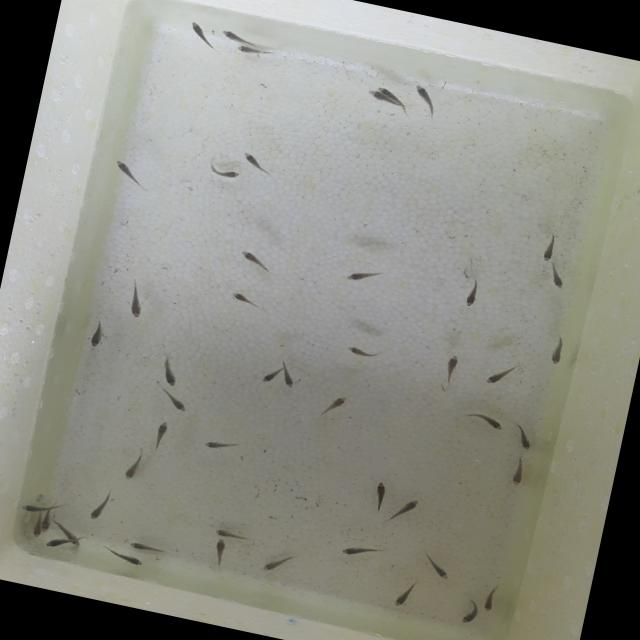fingerling: (108, 156, 154, 193), (382, 491, 422, 528), (258, 546, 296, 579), (100, 544, 148, 570), (417, 549, 454, 582), (235, 149, 278, 177), (235, 247, 278, 274), (152, 353, 184, 389), (336, 540, 384, 564), (222, 287, 270, 311), (318, 389, 350, 424), (122, 280, 150, 320), (124, 536, 174, 558), (461, 408, 506, 432), (154, 385, 191, 414), (391, 576, 421, 610), (502, 454, 530, 490), (478, 580, 506, 616), (508, 420, 538, 451), (182, 19, 215, 47), (368, 478, 392, 516), (120, 448, 146, 483), (86, 489, 112, 524), (454, 596, 482, 628), (202, 162, 244, 183), (360, 86, 400, 108), (85, 316, 110, 350), (544, 334, 569, 368), (210, 526, 256, 544), (479, 366, 512, 391), (150, 417, 172, 454), (408, 82, 437, 110), (344, 266, 380, 288), (56, 522, 86, 547), (209, 536, 231, 570), (232, 42, 272, 60), (258, 360, 284, 387), (544, 262, 569, 290), (538, 232, 559, 264), (461, 278, 482, 310), (201, 436, 237, 454), (44, 534, 76, 554), (278, 365, 300, 391), (218, 27, 251, 44), (342, 347, 374, 364), (18, 497, 44, 516), (442, 357, 458, 384), (28, 517, 45, 539)
